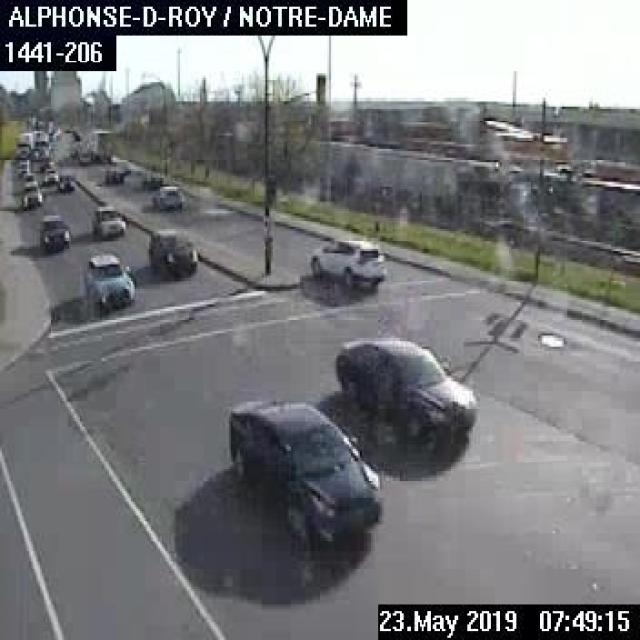vehicle: (225, 393, 382, 547), (329, 335, 478, 438), (306, 233, 388, 287), (80, 249, 135, 309), (146, 227, 197, 273), (34, 210, 74, 251), (89, 202, 126, 236), (151, 185, 182, 209), (18, 178, 42, 208), (9, 130, 31, 158), (101, 164, 124, 184), (140, 169, 163, 189), (56, 172, 74, 196), (41, 166, 61, 186)
